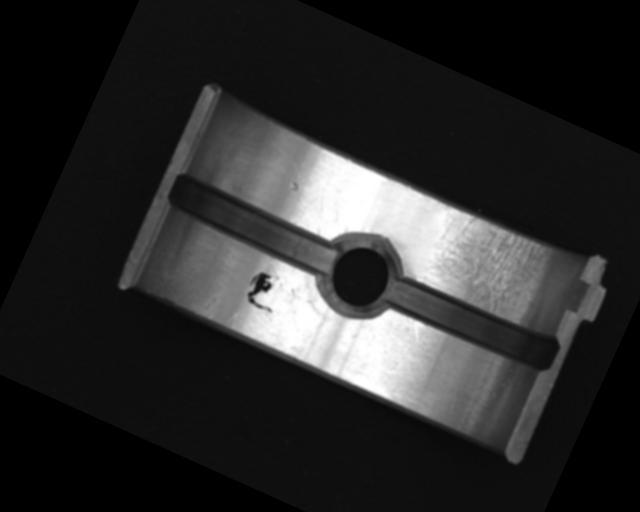blot: (239, 264, 289, 317)
bruise: (287, 180, 300, 192)
gap: (160, 166, 345, 282), (382, 269, 564, 377)
hole: (307, 220, 417, 331)
nick: (404, 317, 427, 342)
scratch: (411, 200, 565, 332)
